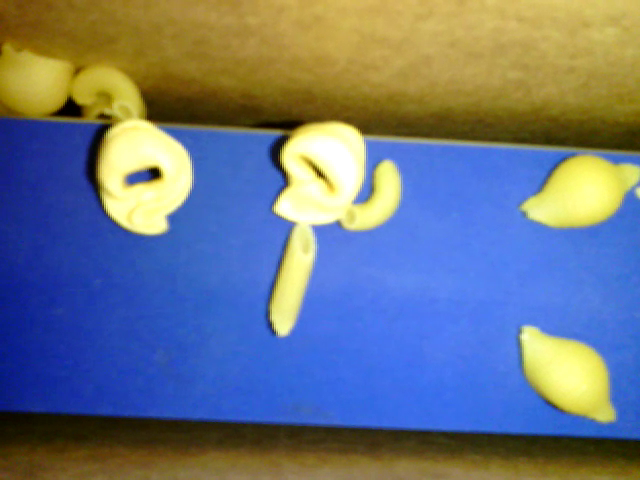elbow: (341, 159, 401, 229), (69, 63, 141, 116)
penne: (267, 221, 316, 336)
shell: (519, 324, 614, 423), (519, 153, 639, 229), (1, 43, 73, 115), (84, 93, 122, 119)
tortellini: (97, 116, 192, 234), (271, 122, 364, 226)
